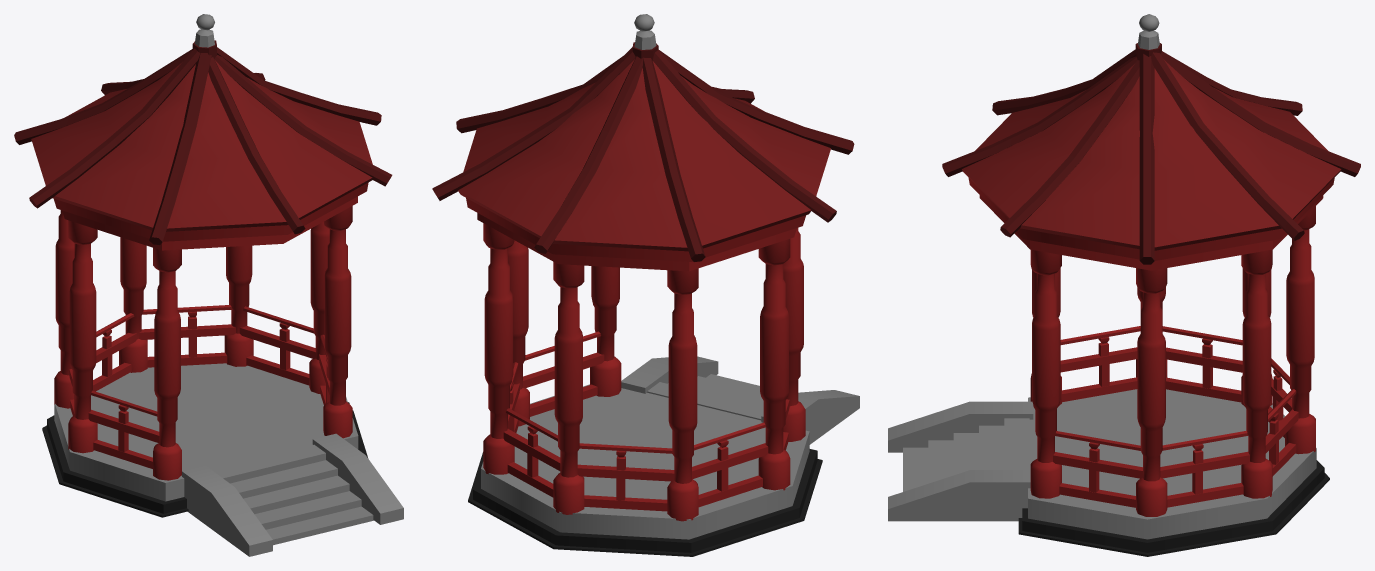
File: SM_pavilion_japan.fbx
The picture shows the model from 3 angles, left to right: view 1: azimuth 30°, elevation 25°; view 2: azimuth 150°, elevation 25°; view 3: azimuth 270°, elevation 25°; orthographic projection. The views are drawn at different scales.
Parts seen in each view (by area): view 1: Box060; view 2: Box060; view 3: Box060.
Boxes of the visible parts, <box> form: Box060: <box>14,14,403,556</box>; Box060: <box>432,14,859,556</box>; Box060: <box>888,14,1360,556</box>.
Bounding box in the file's own units: 222 × 264 × 242.
